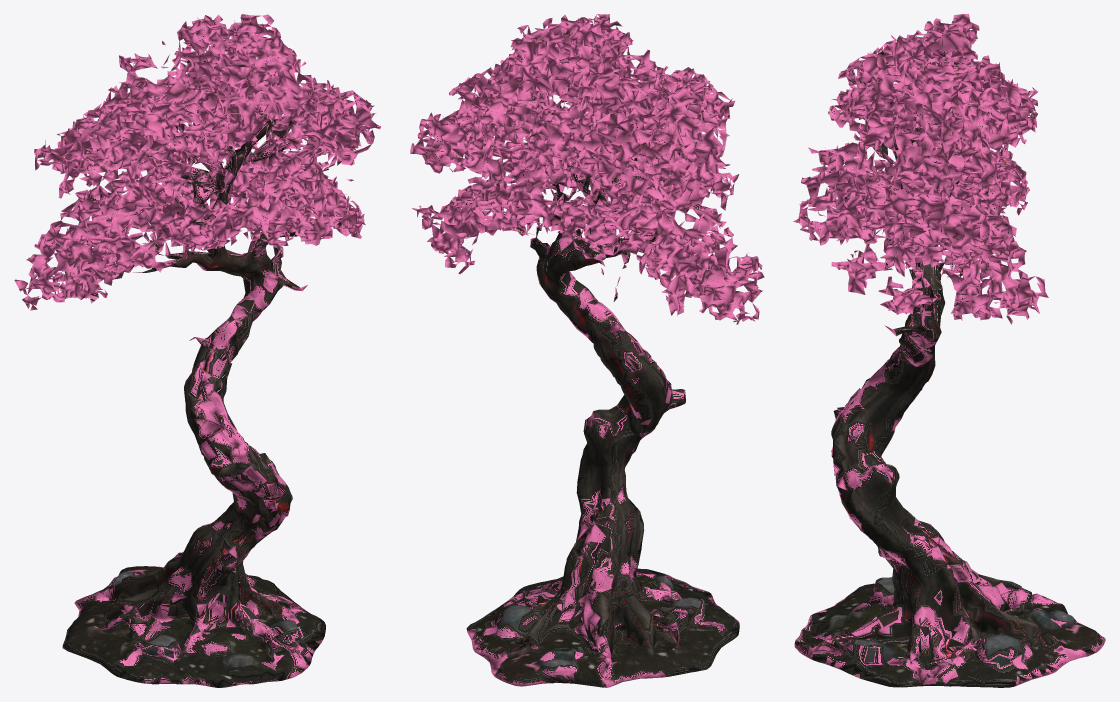
File: tree.glb
3 renders of one model, left to right at view 1: azimuth 30°, elevation 25°; view 2: azimuth 150°, elevation 25°; view 3: azimuth 270°, elevation 25°, orthographic.
Bounding box in the file's own units: 1.08 × 1.89 × 0.8681.
1 material, 1 textured.
